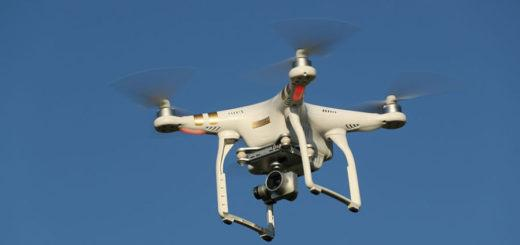drone: (108, 22, 455, 193)
